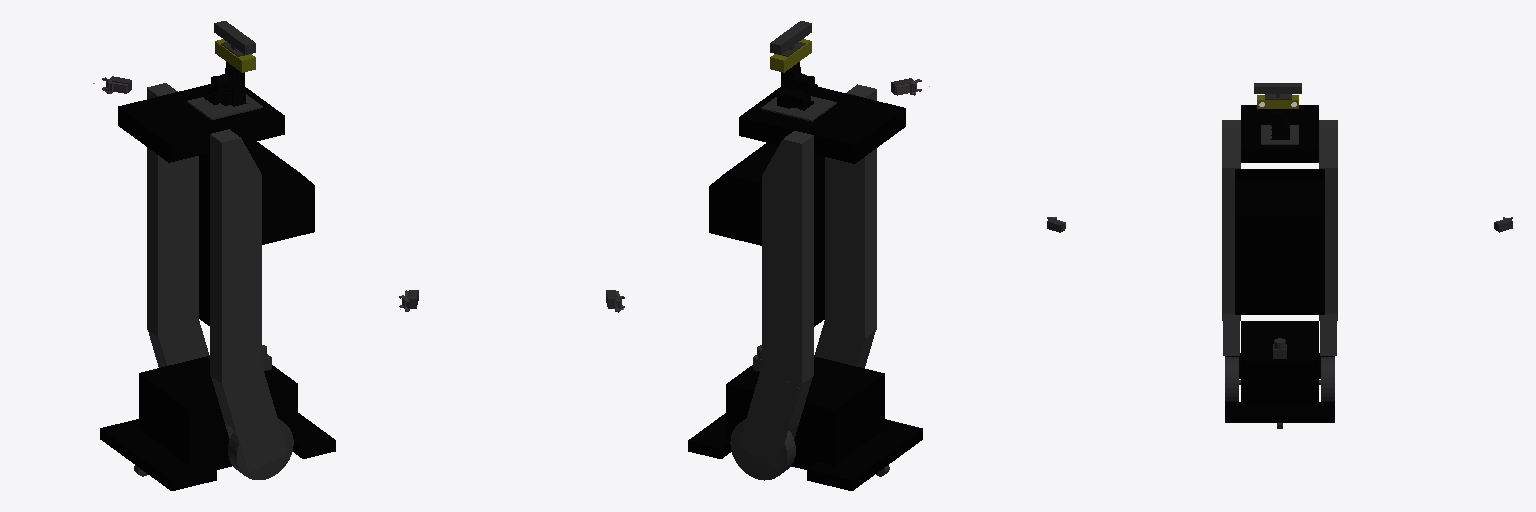
--- Render facts (derived) ---
Views: 3 orthographic renders of the robot side by side, from view 1: azimuth 30°, elevation 25°; view 2: azimuth 150°, elevation 25°; view 3: azimuth 270°, elevation 25°.
Robot: phoebe — 44 links, 43 joints (16 revolute, 4 continuous, 4 prismatic, 19 fixed); root link base_footprint; default pose: all joints at 0.
Links seen in each view (by area): view 1: base_link, wheel_right, xtion_link, ptu_base_plate_link, bumblebee_link, ptu_tilt_link, ptu_pan_link; view 2: base_link, wheel_left, xtion_link, ptu_base_plate_link, bumblebee_link, ptu_tilt_link, ptu_pan_link; view 3: base_link, xtion_link, wheel_left, wheel_right.
Link boxes in pixels (box(x1,y1,x2,y2)): base_link: box(100, 83, 335, 490); wheel_right: box(228, 419, 293, 479); xtion_link: box(214, 21, 255, 56); ptu_base_plate_link: box(187, 94, 262, 119); bumblebee_link: box(215, 39, 255, 72); ptu_tilt_link: box(208, 65, 244, 94); ptu_pan_link: box(204, 87, 246, 106); base_link: box(688, 84, 922, 490); wheel_left: box(730, 419, 795, 480); xtion_link: box(770, 21, 811, 56); ptu_base_plate_link: box(761, 96, 836, 121); bumblebee_link: box(770, 39, 811, 72); ptu_tilt_link: box(781, 64, 817, 93); ptu_pan_link: box(777, 88, 813, 110); base_link: box(1222, 105, 1337, 422); xtion_link: box(1254, 83, 1301, 99); wheel_left: box(1321, 357, 1334, 401); wheel_right: box(1225, 357, 1238, 401).
Bounding box of the posed robot: 0.546 × 1.77 × 1.33 m (x, y, z).
Meshes: 15 distinct files referenced, 6 mesh visuals loaded (5 Collada DAE); not drawn: 20 (reference not matched to a file when rendering).

robot.urdf — phoebe:
<?xml version="1.0" ?>
<!-- =================================================================================== -->
<!-- |    This document was autogenerated by xacro from [local-path]/catkin_ws/src/robotic_waiter/phoebe_description/urdf/phoebe.urdf.xacro | -->
<!-- |    EDITING THIS FILE BY HAND IS NOT RECOMMENDED                                 | -->
<!-- =================================================================================== -->
<robot name="phoebe" xmlns:xacro="http://www.ros.org/wiki/xacro">
  <gazebo>
    <plugin filename="libgazebo_ros_control.so" name="gazebo_ros_control">
      <!-- <publishTf>1</publishTf> -->
      <robotNamespace>/phoebe</robotNamespace>
      <robotSimType>gazebo_ros_control/DefaultRobotHWSim</robotSimType>
      <legacyModeNS>true</legacyModeNS>
    </plugin>
    <!-- <plugin name="joint_state_publisher" filename="libgazebo_ros_joint_state_publisher.so"> 
      <updateRate>50</updateRate>
    </plugin>     -->
  </gazebo>
  <gazebo>
    <plugin filename="libroboticsgroup_gazebo_mimic_joint_plugin.so" name="right_finger_mimic_joint_plugin">
      <joint>right_arm_gripper_joint</joint>
      <mimicJoint>right_arm_gripper_joint2</mimicJoint>
      <multiplier>-1</multiplier>
      <maxEffort>100.0</maxEffort>
    </plugin>
  </gazebo>
  <gazebo>
    <plugin filename="libroboticsgroup_gazebo_mimic_joint_plugin.so" name="left_finger_mimic_joint_plugin">
      <joint>left_arm_gripper_joint</joint>
      <mimicJoint>left_arm_gripper_joint2</mimicJoint>
      <multiplier>-1</multiplier>
      <maxEffort>100.0</maxEffort>
    </plugin>
  </gazebo>
  <gazebo reference="base_link">
    <kp>1e+13</kp>
    <kd>1</kd>
    <mu1>1.0</mu1>
    <mu2>10.0</mu2>
    <material>Gazebo/Grey</material>
  </gazebo>
  <gazebo reference="wheel_left">
    <mu1 value="220.0"/>
    <mu2 value="100.0"/>
    <kp>1e+13</kp>
    <kd>1</kd>
    <material>Gazebo/White</material>
  </gazebo>
  <gazebo reference="wheel_right">
    <mu1 value="220.0"/>
    <mu2 value="100.0"/>
    <kp>1e+13</kp>
    <kd>1</kd>
    <material>Gazebo/White</material>
  </gazebo>
  <gazebo reference="wheel_rear">
    <mu1 value="220.0"/>
    <mu2 value="100.0"/>
    <kp>1e+13</kp>
    <kd>1</kd>
    <material>Gazebo/White</material>
  </gazebo>
  <gazebo reference="wheel_front">
    <mu1 value="220.0"/>
    <mu2 value="100.0"/>
    <kp>1e+13</kp>
    <kd>1</kd>
    <material>Gazebo/White</material>
  </gazebo>
  <gazebo reference="left_arm_base_link">
    <kp>1e+13</kp>
    <kd>1</kd>
    <mu1>1.0</mu1>
    <mu2>10.0</mu2>
    <material>Gazebo/Black</material>
  </gazebo>
  <gazebo reference="right_arm_base_link">
    <kp>1e+13</kp>
    <kd>1</kd>
    <mu1>1.0</mu1>
    <mu2>10.0</mu2>
    <material>Gazebo/Black</material>
  </gazebo>
  <gazebo>
    <plugin filename="libgazebo_ros_diff_drive.so" name="differential_drive_controller">
      <alwaysOn>true</alwaysOn>
      <updateRate>50</updateRate>
      <leftJoint>wheel_left_joint</leftJoint>
      <rightJoint>wheel_right_joint</rightJoint>
      <wheelSeparation>0.31</wheelSeparation>
      <wheelDiameter>0.19</wheelDiameter>
      <commandTopic>/phoebe/cmd_vel</commandTopic>
      <odometryTopic>odom</odometryTopic>
      <odometryFrame>odom</odometryFrame>
      <robotBaseFrame>base_footprint</robotBaseFrame>
      <legacyMode>false</legacyMode>
      <publishWheelTF>true</publishWheelTF>
      <publishOdomTF>true</publishOdomTF>
      <publishWheelJointState>true</publishWheelJointState>
      <publishTf>1</publishTf>
      <wheelAcceleration>1</wheelAcceleration>
      <wheelTorque>5</wheelTorque>
      <rosDebugLevel>na</rosDebugLevel>
      <odometrySource>0</odometrySource>
    </plugin>
  </gazebo>
  <transmission name="wheel_left_joint_trans">
    <type>transmission_interface/SimpleTransmission</type>
    <joint name="wheel_left_joint">
      <hardwareInterface>hardware_interface/VelocityJointInterface</hardwareInterface>
    </joint>
    <actuator name="wheel_left_joint_motor">
      <hardwareInterface>hardware_interface/VelocityJointInterface</hardwareInterface>
      <mechanicalReduction>1.0</mechanicalReduction>
    </actuator>
  </transmission>
  <transmission name="wheel_right_joint_trans">
    <type>transmission_interface/SimpleTransmission</type>
    <joint name="wheel_right_joint">
      <hardwareInterface>hardware_interface/VelocityJointInterface</hardwareInterface>
    </joint>
    <actuator name="wheel_right_joint_motor">
      <hardwareInterface>hardware_interface/VelocityJointInterface</hardwareInterface>
      <mechanicalReduction>1.0</mechanicalReduction>
    </actuator>
  </transmission>
  <transmission name="ptu_pan_joint_trans">
    <type>transmission_interface/SimpleTransmission</type>
    <joint name="ptu_pan_joint">
      <hardwareInterface>hardware_interface/PositionJointInterface</hardwareInterface>
    </joint>
    <actuator name="ptu_pan_joint_motor">
      <hardwareInterface>hardware_interface/PositionJointInterface</hardwareInterface>
    </actuator>
    <actuator name="ptu_pan_joint_motor">
      <mechanicalReduction>1.0</mechanicalReduction>
    </actuator>
  </transmission>
  <transmission name="ptu_tilt_joint_trans">
    <type>transmission_interface/SimpleTransmission</type>
    <joint name="ptu_tilt_joint">
      <hardwareInterface>hardware_interface/PositionJointInterface</hardwareInterface>
    </joint>
    <actuator name="ptu_tilt_joint_motor">
      <hardwareInterface>hardware_interface/PositionJointInterface</hardwareInterface>
      <mechanicalReduction>1.0</mechanicalReduction>
    </actuator>
  </transmission>
  <!-- hokuyo Laser-->
  <gazebo reference="hokuyo_link">
    <material>Gazebo/Black</material>
    <sensor name="head_hokuyo_sensor" type="ray">
      <pose>0 0 0 0 0 0</pose>
      <visualize>false</visualize>
      <update_rate>20</update_rate>
      <ray>
        <scan>
          <horizontal>
            <samples>720</samples>
            <resolution>1</resolution>
            <min_angle>-1.570796</min_angle>
            <max_angle>1.570796</max_angle>
          </horizontal>
        </scan>
        <range>
          <min>0.10</min>
          <max>30.0</max>
          <resolution>0.01</resolution>
        </range>
        <noise>
          <type>gaussian</type>
          <!-- Noise parameters based on published spec for Hokuyo laser
               achieving "+-30mm" accuracy at range < 10m.  A mean of 0.0m and
               stddev of 0.01m will put 99.7% of samples within 0.03m of the true
               reading. -->
          <mean>0.0</mean>
          <stddev>0.01</stddev>
        </noise>
      </ray>
      <plugin filename="libgazebo_ros_laser.so" name="gazebo_ros_head_hokuyo_controller">
        <topicName>/phoebe/laser/scan</topicName>
        <frameName>hokuyo_link</frameName>
      </plugin>
    </sensor>
  </gazebo>
  <!-- Gazebo  Cameras -->
  <gazebo reference="bumblebee_link">
    <sensor name="gazebo_stereo_camera" type="multicamera">
      <update_rate>25.0</update_rate>
      <camera name="left">
        <!-- <pose>0 0.065 0 0 0 0</pose> -->
        <horizontal_fov>1.69297</horizontal_fov>
        <image>
          <width>640 </width>
          <height> 480</height>
          <format>B8G8R8</format>
        </image>
        <clip>
          <near>0.01</near>
          <far>100</far>
        </clip>
      </camera>
      <camera name="right">
        <!-- <pose>0 -0.065 0 0 0 0</pose> -->
        <!-- the pose is wrt /stereo_link which is the parent of stereo_optical_frame -->
        <horizontal_fov>1.69297</horizontal_fov>
        <image>
          <width>640 </width>
          <height> 480</height>
          <format>B8G8R8</format>
        </image>
        <clip>
          <near>0.01</near>
          <far>10</far>
        </clip>
      </camera>
      <plugin filename="libgazebo_ros_multicamera.so" name="stereo_camera_controller">
        <alwaysOn>true</alwaysOn>
        <updateRate>0.0</updateRate>
        <cameraName>bumblebee</cameraName>
        <imageTopicName>/bumblebee/image</imageTopicName>
        <cameraInfoTopicName>/bumblebee/camera_info</cameraInfoTopicName>
        <frameName>bumblebee_link</frameName>
        <hackBaseline>0.0</hackBaseline>
        <CxPrime>0</CxPrime>
        <Cx>0</Cx>
        <Cy>0</Cy>
        <focalLength>0</focalLength>
        <!-- image_width /283.0 (2*tan(hfov_radian /2)) -->
        <distortionK1>0.0</distortionK1>
        <distortionK2>0.0</distortionK2>
        <distortionK3>0.0</distortionK3>
        <distortionT1>0.0</distortionT1>
        <distortionT2>0.0</distortionT2>
      </plugin>
    </sensor>
  </gazebo>
  <gazebo reference="xtion_link">
    <sensor name="xtion_link_camera" type="depth">
      <update_rate>30</update_rate>
      <camera>
        <horizontal_fov>1.01229096</horizontal_fov>
        <!-- in radians -->
        <image>
          <width>640</width>
          <height>480</height>
          <format>R8G8B8</format>
        </image>
        <clip>
          <near>0.08</near>
          <far>3.5</far>
        </clip>
      </camera>
      <plugin filename="libgazebo_ros_openni_kinect.so" name="xtion_link_controller">
        <baseline>0.2</baseline>
        <alwaysOn>true</alwaysOn>
        <updateRate>0</updateRate>
        <cameraName>xtion</cameraName>
        <imageTopicName>/xtion/color/image_raw</imageTopicName>
        <cameraInfoTopicName>/xtion/color/camera_info</cameraInfoTopicName>
        <depthImageTopicName>/xtion/depth/image_raw</depthImageTopicName>
        <depthImageInfoTopicName>/xtion/depth/camera_info</depthImageInfoTopicName>
        <pointCloudTopicName>/xtion/depth/points</pointCloudTopicName>
        <frameName>xtion_optical_frame</frameName>
        <pointCloudCutoff>0.5</pointCloudCutoff>
        <pointCloudCutoffMax>3.0</pointCloudCutoffMax>
        <distortionK1>0.00000001</distortionK1>
        <distortionK2>0.00000001</distortionK2>
        <distortionK3>0.00000001</distortionK3>
        <distortionT1>0.00000001</distortionT1>
        <distortionT2>0.00000001</distortionT2>
        <CxPrime>0</CxPrime>
        <Cx>0</Cx>
        <Cy>0</Cy>
        <focalLength>577.2</focalLength>
        <hackBaseline>0</hackBaseline>
      </plugin>
    </sensor>
  </gazebo>
  <gazebo reference="left_optical_frame">
    <sensor name="left_arm_camera" type="camera">
      <update_rate>30.0</update_rate>
      <!-- <visualize>true</visualize> -->
      <!-- <pose> 0 0 0 0 -1.5708 0 </pose > -->
      <camera name="left_arm_camera">
        <!-- <pose> 0 0 0 0 -1.5708 0 </pose > -->
        <horizontal_fov>1.3962634</horizontal_fov>
        <image>
          <width>800</width>
          <height>800</height>
          <format>R8G8B8</format>
        </image>
        <clip>
          <near>0.02</near>
          <far>300</far>
        </clip>
        <noise>
          <type>gaussian</type>
          <!-- Noise is sampled independently per pixel on each frame.  
               That pixel's noise value is added to each of its color
               channels, which at that point lie in the range [0,1]. -->
          <mean>0.0</mean>
          <stddev>0.007</stddev>
        </noise>
      </camera>
      <plugin filename="libgazebo_ros_camera.so" name="camera_controller">
        <alwaysOn>true</alwaysOn>
        <updateRate>0.0</updateRate>
        <cameraName>left_arm_camera</cameraName>
        <imageTopicName>/left_arm_camera/image_raw</imageTopicName>
        <cameraInfoTopicName>/left_arm_camera/camera_info</cameraInfoTopicName>
        <frameName>left_optical_frame</frameName>
        <hackBaseline>0.07</hackBaseline>
        <distortionK1>0.0</distortionK1>
        <distortionK2>0.0</distortionK2>
        <distortionK3>0.0</distortionK3>
        <distortionT1>0.0</distortionT1>
        <distortionT2>0.0</distortionT2>
      </plugin>
    </sensor>
  </gazebo>
  <gazebo reference="right_optical_frame">
    <sensor name="right_arm_camera" type="camera">
      <update_rate>30.0</update_rate>
      <!-- <visualize>true</visualize> -->
      <!-- <pose> 0 0 0  0 -1.5708 3.1415 </pose > -->
      <camera name="right_arm_camera">
        <!-- <pose> 0 0 0  0 -1.5708 3.1415 </pose > -->
        <horizontal_fov>1.3962634</horizontal_fov>
        <image>
          <width>800</width>
          <height>800</height>
          <format>R8G8B8</format>
        </image>
        <clip>
          <near>0.02</near>
          <far>300</far>
        </clip>
        <noise>
          <type>gaussian</type>
          <!-- Noise is sampled independently per pixel on each frame.  
               That pixel's noise value is added to each of its color
               channels, which at that point lie in the range [0,1]. -->
          <mean>0.0</mean>
          <stddev>0.007</stddev>
        </noise>
      </camera>
      <plugin filename="libgazebo_ros_camera.so" name="camera_controller">
        <alwaysOn>true</alwaysOn>
        <updateRate>0.0</updateRate>
        <cameraName>right_arm_camera</cameraName>
        <imageTopicName>/right_arm_camera/image_raw</imageTopicName>
        <cameraInfoTopicName>/right_arm_camera/camera_info</cameraInfoTopicName>
        <frameName>right_optical_frame</frameName>
        <hackBaseline>0.07</hackBaseline>
        <distortionK1>0.0</distortionK1>
        <distortionK2>0.0</distortionK2>
        <distortionK3>0.0</distortionK3>
        <distortionT1>0.0</distortionT1>
        <distortionT2>0.0</distortionT2>
      </plugin>
    </sensor>
  </gazebo>
  <link name="base_footprint"/>
  <joint name="base_joint" type="fixed">
    <origin rpy="0 0 0" xyz="0 0 0.0012"/>
    <parent link="base_footprint"/>
    <child link="base_link"/>
  </joint>
  <link name="base_link">
    <inertial>
      <origin rpy="0 0 0" xyz="-0.040872 0.0 0.56"/>
      <mass value="12"/>
      <!-- inretia tensor for solid cuboid: m=12, h=1.12, d=0.49, w=0.41 -->
      <inertia ixx="1.4225" ixy="0" ixz="0" iyy="1.4945" iyz="0" izz="0.4082"/>
    </inertial>
    <visual>
      <origin rpy="0 0 0" xyz="0 0 0"/>
      <geometry>
        <mesh filename="package://phoebe_description/meshes/phoebe.dae"/>
      </geometry>
    </visual>
    <collision>
      <origin rpy="0 0 0" xyz="0 0 0"/>
      <geometry>
        <mesh filename="package://phoebe_description/meshes/phoebe.dae"/>
      </geometry>
    </collision>
  </link>
  <joint name="wheel_rear_joint" type="continuous">
    <origin rpy="0 0 0" xyz="-0.29 0.0 0.020"/>
    <parent link="base_link"/>
    <child link="wheel_rear"/>
    <axis rpy="0 0 0" xyz="0 1 0"/>
    <limit effort="10000" velocity="1000"/>
    <joint_properties damping="0.0" friction="0.0"/>
  </joint>
  <link name="wheel_rear">
    <inertial>
      <!--origin rpy="0 0 0" xyz="0 0 0"/-->
      <origin rpy="0 1.5708 1.5708" xyz="0 0 0"/>
      <mass value="0.25"/>
      <!-- inretia tensor for solid cylinder: m=0.5, h=0.05, r=0.095 -->
      <inertia ixx="1.232291667e-03" ixy="0" ixz="0" iyy="1.232291667e-03" iyz="0" izz="2.25625e-03"/>
    </inertial>
    <visual>
      <origin rpy="0 1.5707 1.5707" xyz="0 0 0"/>
      <geometry>
        <cylinder length="0.025" radius="0.02"/>
      </geometry>
      <material name="blackish">
        <color rgba="0.2 0.2 0.2 1"/>
      </material>
    </visual>
    <collision>
      <origin rpy="0 1.5707 1.5707" xyz="0 0 0"/>
      <geometry>
        <cylinder length="0.025" radius="0.02"/>
      </geometry>
    </collision>
  </link>
  <joint name="wheel_front_joint" type="continuous">
    <parent link="base_link"/>
    <child link="wheel_front"/>
    <origin rpy="0 0 0" xyz="0.206 0 0.020"/>
    <axis rpy="0 0 0" xyz="0 1 0"/>
    <limit effort="10000" velocity="1000"/>
    <joint_properties damping="0.0" friction="0.0"/>
  </joint>
  <link name="wheel_front">
    <inertial>
      <!--origin rpy="0 0 0" xyz="0 0 0"/-->
      <origin rpy="0 1.5708 1.5708" xyz="0 0 0"/>
      <mass value="0.25"/>
      <inertia ixx="1.232291667e-03" ixy="0" ixz="0" iyy="1.232291667e-03" iyz="0" izz="2.25625e-03"/>
    </inertial>
    <visual>
      <origin rpy="0 1.5707 1.5707" xyz="0 0 0"/>
      <geometry>
        <cylinder length="0.025" radius="0.02"/>
      </geometry>
      <material name="blackish"/>
    </visual>
    <collision>
      <origin rpy="0 1.5707 1.5707" xyz="0 0 0"/>
      <geometry>
        <cylinder length="0.025" radius="0.02"/>
      </geometry>
    </collision>
  </link>
  <joint name="wheel_left_joint" type="continuous">
    <parent link="base_link"/>
    <child link="wheel_left"/>
    <!--origin rpy="1.570796 0 0" xyz="0.0 0.18 0.095"/-->
    <origin rpy="0 0 0" xyz="0.0 0.18 0.095"/>
    <!--axis xyz="0 0 1"/-->
    <axis xyz="0 1 0"/>
    <limit effort="10000" velocity="1000"/>
    <joint_properties damping="1.0" friction="1.0"/>
  </joint>
  <link name="wheel_left">
    <inertial>
      <!--origin rpy="0 0 0" xyz="0 0 0"/-->
      <origin rpy="0 1.5708 1.5708" xyz="0 0 0"/>
      <mass value="0.5"/>
      <!-- inretia tensor for solid cylinder: m=0.5, h=0.05, r=0.095 -->
      <inertia ixx="1.232291667e-03" ixy="0" ixz="0" iyy="1.232291667e-03" iyz="0" izz="2.25625e-03"/>
    </inertial>
    <visual>
      <!--origin rpy="0 0 0" xyz="0 0 0"/-->
      <origin rpy="0 1.5708 1.5708" xyz="0 0 0"/>
      <geometry>
        <cylinder length="0.05" radius="0.095"/>
      </geometry>
      <material name="blackish">
        <color rgba="0.2 0.2 0.2 1"/>
      </material>
    </visual>
    <collision>
      <!--origin rpy="0 0 0" xyz="0 0 0"/-->
      <origin rpy="0 1.5707 1.5707" xyz="0 0 0"/>
      <geometry>
        <cylinder length="0.05" radius="0.095"/>
      </geometry>
    </collision>
  </link>
  <joint name="wheel_right_joint" type="continuous">
    <parent link="base_link"/>
    <child link="wheel_right"/>
    <!--origin rpy="1.570796 0 0" xyz="0.0 -0.18 0.095"/-->
    <origin rpy="0 0 0" xyz="0.0 -0.18 0.095"/>
    <!--axis xyz="0 0 1"/-->
    <axis xyz="0 1 0"/>
    <limit effort="10000" velocity="1000"/>
    <joint_properties damping="1.0" friction="1.0"/>
  </joint>
  <link name="wheel_right">
    <inertial>
      <!--origin rpy="0 0 0" xyz="0 0 0"/-->
      <origin rpy="0 1.5708 1.5708" xyz="0 0 0"/>
      <mass value="0.5"/>
      <!-- inretia tensor for solid cylinder: m=0.5, h=0.05, r=0.095 -->
      <inertia ixx="1.232291667e-03" ixy="0" ixz="0" iyy="1.232291667e-03" iyz="0" izz="2.25625e-03"/>
    </inertial>
    <visual>
      <!--origin rpy="0 0 0" xyz="0 0 0"/-->
      <origin rpy="0 1.5708 1.5708" xyz="0 0 0"/>
      <geometry>
        <cylinder length="0.05" radius="0.095"/>
      </geometry>
      <material name="blackish"/>
    </visual>
    <collision>
      <!--origin rpy="0 0 0" xyz="0 0 0"/-->
      <origin rpy="0 1.5708 1.5708" xyz="0 0 0"/>
      <geometry>
        <cylinder length="0.05" radius="0.095"/>
      </geometry>
    </collision>
  </link>
  <!-- Cyton Gamma 1500 models -->
  <!-- Right arm -->
  <joint name="right_arm_joint" type="fixed">
    <parent link="base_link"/>
    <child link="right_arm_base_link"/>
    <origin rpy="1.5708 -1.5708 0" xyz="0.067 -0.162 0.8"/>
  </joint>
  <link name="right_arm_base_link">
    <visual>
      <origin rpy="0 0 0" xyz="0 0 0"/>
      <geometry>
        <mesh filename="package://cyton_gamma_1500_description/meshes/base.dae"/>
      </geometry>
    </visual>
    <inertial>
      <origin rpy="0 0 0" xyz="0.0 0 0"/>
      <mass value="0.478571"/>
      <!-- inretia tensor for solid cuboid: m=0.478571, w=0.177, h=0.074, d=0.150 -->
      <inertia ixx="1.47e-03" ixy="0" ixz="0" iyy="2.15e-03" iyz="0" izz="1.12e-03"/>
    </inertial>
    <collision>
      <!--origin xyz="0 0.0115 0.047"/-->
      <origin rpy="0 0 0" xyz="0 0 0"/>
      <geometry>
        <!--box size="0.154 0.177 0.094"/-->
        <box size="0.154 0.16 0.075"/>
      </geometry>
    </collision>
  </link>
  <joint name="right_arm_shoulder_roll_joint" type="revolute">
    <parent link="right_arm_base_link"/>
    <child link="right_arm_shoulder_roll"/>
    <origin rpy="0 0 0" xyz="0 0 0.05315"/>
    <limit effort="100.0" lower="-2.618" upper="2.618" velocity="1.0"/>
    <axis xyz="0 0 1"/>
  </joint>
  <link name="right_arm_shoulder_roll">
    <visual>
      <origin rpy="1.5708 0 0.384" xyz="0 0 0"/>
      <geometry>
        <mesh filename="package://cyton_gamma_1500_description/meshes/shoulder_roll.dae"/>
      </geometry>
    </visual>
    <collision>
      <origin xyz="0.0 0.0 0.0"/>
      <geometry>
        <!--box size="0.09829 0.18143 0.08392"/-->
        <box size="0.068 0.10 0.065"/>
      </geometry>
    </collision>
    <inertial>
      <origin rpy="0 0 0" xyz="0 0 0.12"/>
      <mass value="0.468571"/>
      <!-- inretia tensor for solid cylinder: m=0.468571, h=0.09248, r=0.044737 -->
      <inertia ixx="4.7e-04" ixy="0" ixz="0" iyy="5.7e-04" iyz="0" izz="5.7e-04"/>
    </inertial>
  </link>
  <joint name="right_arm_shoulder_pitch_joint" type="revolute">
    <parent link="right_arm_shoulder_roll"/>
    <child link="right_arm_shoulder_pitch"/>
    <origin rpy="0 0 0" xyz="0.0205 0 0.12435"/>
    <limit effort="100.0" lower="-1.8326" upper="1.8326" velocity="1.0"/>
    <axis xyz="1 0 0"/>
  </joint>
  <transmission name="right_arm_tran1">
    <type>transmission_interface/SimpleTransmission</type>
    <joint name="right_arm_shoulder_roll_joint">
      <hardwareInterface>hardware_interface/PositionJointInterface</hardwareInterface>
    </joint>
    <actuator name="right_arm_motor1">
      <hardwareInterface>hardware_interface/PositionJointInterface</hardwareInterface>
    </actuator>
  </transmission>
  <link name="right_arm_shoulder_pitch">
    <visual>
      <origin rpy="1.5708 0 0" xyz="0 0 0"/>
      <geometry>
        <mesh filename="package://cyton_gamma_1500_description/meshes/shoulder_pitch.dae"/>
      </geometry>
    </visual>
    <collision>
      <origin xyz="-0.02 0.0 0.0"/>
      <geometry>
        <sphere radius="0.055"/>
        <!--box size="0.098 0.08 0.11"/-->
      </geometry>
    </collision>
    <inertial>
      <!--origin rpy="0 0 0" xyz="-0.0214 0 0.117"/-->
      <origin rpy="0 0 0" xyz="0 0 0"/>
      <mass value="0.4285714"/>
      <!-- inretia tensor for solid cylinder: m=0.4285714, h=0.09248, r=0.04204 -->
      <inertia ixx="4.9e-04" ixy="0" ixz="0" iyy="3.8e-04" iyz="0" izz="4.9e-04"/>
    </inertial>
  </link>
  <joint name="right_arm_shoulder_yaw_joint" type="revolute">
    <parent link="right_arm_shoulder_pitch"/>
    <child link="right_arm_shoulder_yaw"/>
    <origin rpy="0 0 0" xyz="-0.0215 -0.0205 0.1255"/>
    <limit effort="100.0" lower="-1.8326" upper="1.8326" velocity="1.0"/>
    <axis xyz="0 -1 0"/>
  </joint>
  <transmission name="right_arm_tran2">
    <type>transmission_interface/SimpleTransmission</type>
    <joint name="right_arm_shoulder_pitch_joint">
      <hardwareInterface>hardware_interface/PositionJointInterface</hardwareInterface>
    </joint>
    <actuator name="right_arm_motor2">
      <hardwareInterface>hardware_interface/PositionJointInterface</hardwareInterface>
    </actuator>
  </transmission>
  <link name="right_arm_shoulder_yaw">
    <visual>
      <origin rpy="1.5708 0 -1.5708" xyz="0 0 0.0"/>
      <geometry>
        <mesh filename="package://cyton_gamma_1500_description/meshes/shoulder_yaw.dae"/>
      </geometry>
    </visual>
    <collision>
      <origin xyz=" -0.002 0.02 -0.01"/>
      <geometry>
        <sphere radius="0.055"/>
        <!--box size="0.08 0.1 0.11"/-->
      </geometry>
    </collision>
    <inertial>
      <!--origin rpy="0 0 0" xyz="-0.002 0.021 0.1135"/-->
      <origin rpy="0 0 0" xyz="0 0 0"/>
      <mass value="0.408571"/>
      <!-- inretia tensor for solid cylinder: m=0.408571, h=0.084081, r=0.036785 -->
      <inertia ixx="2.8e-04" ixy="0" ixz="0" iyy="3.8e-04" iyz="0" izz="3.8e-04"/>
    </inertial>
  </link>
  <transmission name="right_arm_tran3">
    <type>transmission_interface/SimpleTransmission</type>
    <joint name="right_arm_shoulder_yaw_joint">
      <hardwareInterface>hardware_interface/PositionJointInterface</hardwareInterface>
    </joint>
    <actuator name="right_arm_motor3">
      <hardwareInterface>hardware_interface/PositionJointInterface</hardwareInterface>
    </actuator>
  </transmission>
  <joint name="right_arm_elbow_pitch_joint" type="revolute">
    <parent link="right_arm_shoulder_yaw"/>
    <child link="right_arm_elbow_pitch"/>
    <origin rpy="0 0 0" xyz="0.018 0.0206 0.1158"/>
    <limit effort="100.0" lower="-1.8326" upper="1.8326" velocity="1.0"/>
    <axis xyz="1 0 0"/>
  </joint>
  <link name="right_arm_elbow_pitch">
    <visual>
      <origin rpy="1.5708 0 3.1416" xyz="0 0 0"/>
      <geometry>
        <mesh filename="package://cyton_gamma_1500_description/meshes/elbow_pitch.dae"/>
      </geometry>
    </visual>
    <collision>
      <origin xyz="-0.022 0.0 -0.006"/>
      <geometry>
        <sphere radius="0.055"/>
        <!--box size="0.09 0.1 0.11"/-->
      </geometry>
    </collision>
    <inertial>
      <origin rpy="0 0 0" xyz="0 0 0"/>
      <!--origin rpy="0 0 0" xyz="-0.0176 0.001 0.095"/-->
      <mass value="0.388671"/>
      <!-- inretia tensor for solid cylinder: m=0.388671, h=0.06705, r=0.028975 -->
      <inertia ixx="2.3e-04" ixy="0" ixz="0" iyy="1.6e-04" iyz="0" izz="2.3e-04"/>
    </inertial>
  </link>
  <transmission name="right_arm_tran4">
    <type>transmission_interface/SimpleTransmission</type>
    <joint name="right_arm_elbow_pitch_joint">
      <hardwareInterface>hardware_interface/PositionJointInterface</hardwareInterface>
    </joint>
    <actuator name="right_arm_motor4">
      <hardwareInterface>hardware_interface/PositionJointInterface</hardwareInterface>
    </actuator>
  </transmission>
  <joint name="right_arm_elbow_yaw_joint" type="revolute">
    <parent link="right_arm_elbow_pitch"/>
    <child link="right_arm_elbow_yaw"/>
    <origin rpy="0 0 0" xyz="-0.0171 -0.018 0.09746"/>
    <limit effort="100.0" lower="-1.8326" upper="1.8326" velocity="1.0"/>
    <axis xyz="0 -1 0"/>
  </joint>
  <link name="right_arm_elbow_yaw">
    <visual>
      <origin rpy="1.5708 0 1.5708" xyz="0 0 0"/>
      <geometry>
        <mesh filename="package://cyton_gamma_1500_description/meshes/elbow_yaw.dae"/>
      </geometry>
    </visual>
    <collision>
      <origin xyz="0.0 0.025 0.0"/>
      <geometry>
        <sphere radius="0.05"/>
      </geometry>
    </collision>
    <inertial>
      <!--origin rpy="0 0 0" xyz="0 0.018 0.073"/-->
      <origin rpy="0 0 0" xyz="0 0 0"/>
      <mass value="0.368871"/>
      <!-- inretia tensor for solid cylinder: m=0.368871, h=0.043602, r=0.024071 -->
      <inertia ixx="1.0686e-04" ixy="0" ixz="0" iyy="1.1187e-04" iyz="0" izz="1.1187e-04"/>
    </inertial>
  </link>
  <transmission name="right_arm_tran5">
    <type>transmission_interface/SimpleTransmission</type>
    <joint name="right_arm_elbow_yaw_joint">
      <hardwareInterface>hardware_interface/PositionJointInterface</hardwareInterface>
    </joint>
    <actuator name="right_arm_motor5">
      <hardwareInterface>hardware_interface/PositionJointInterface</hardwareInterface>
    </actuator>
  </transmission>
  <joint name="right_arm_wrist_pitch_joint" type="revolute">
    <parent link="right_arm_elbow_yaw"/>
    <child link="right_arm_wrist_pitch"/>
    <origin rpy="0 0 0" xyz="0.02626 0.018 0.0718"/>
    <limit effort="100.0" lower="-1.8326" upper="1.8326" velocity="1.0"/>
    <axis xyz="-1 0 0"/>
  </joint>
  <link name="right_arm_wrist_pitch">
    <visual>
      <origin rpy="1.5708 0 1.5708" xyz="0 0 0"/>
      <geometry>
        <mesh filename="package://cyton_gamma_1500_description/meshes/wrist_pitch.dae"/>
      </geometry>
    </visual>
    <collision>
      <origin xyz="-0.02 0.0 0.0"/>
      <geometry>
        <box size="0.07 0.06 0.11"/>
      </geometry>
    </collision>
    <inertial>
      <!--origin rpy="0 0 0" xyz="-0.027 -0.0005 0.028"/-->
      <origin rpy="0 0 0" xyz="0 0 0"/>
      <!-- <mass value="0.008"/> -->
      <mass value="0.2"/>
      <!-- inretia tensor for solid cuboid: m=0.008, h=0.045602, w=0.0218, d=0.005 -->
      <!-- <inertia ixx="3.3349e-07" ixy="0" ixz="0" iyy="1.403e-06" iyz="0" izz="1.70319e-06"/> -->
      <inertia ixx="8.337e-06" ixy="0" ixz="0" iyy="3.507e-05" iyz="0" izz="4.258e-05"/>
    </inertial>
  </link>
  <transmission name="right_arm_tran6">
    <type>transmission_interface/SimpleTransmission</type>
    <joint name="right_arm_wrist_pitch_joint">
      <hardwareInterface>hardware_interface/PositionJointInterface</hardwareInterface>
    </joint>
    <actuator name="right_arm_motor6">
      <hardwareInterface>hardware_interface/PositionJointInterface</hardwareInterface>
    </actuator>
  </transmission>
  <joint name="right_arm_wrist_roll_joint" type="revolute">
    <parent link="right_arm_wrist_pitch"/>
    <child link="right_arm_wrist_roll"/>
    <origin rpy="0 0 0" xyz="-0.026255 0 0.051425"/>
    <limit effort="100.0" lower="-2.61799" upper="2.61799" velocity="1.0"/>
    <axis xyz="0 0 1"/>
  </joint>
  <link name="right_arm_wrist_roll">
    <visual>
      <origin rpy="3.1416 0 -1.5708" xyz="0 0 0"/>
      <geometry>
        <mesh filename="package://cyton_gamma_1500_description/meshes/wrist_roll.dae"/>
      </geometry>
    </visual>
    <collision>
      <origin xyz="0.0 0.008 0.04"/>
      <geometry>
        <box size="0.08 0.06 0.08"/>
      </geometry>
    </collision>
    <inertial>
      <!--origin rpy="0 0 0" xyz="0 0 0.029"/-->
      <origin rpy="0 0 0" xyz="0 0 0"/>
      <mass value="0.38"/>
      <!-- inretia tensor for solid cylinder: m=0.38, h=0.095, r=0.027975 -->
      <inertia ixx="3.6e-04" ixy="0" ixz="0" iyy="3.6e-04" iyz="0" izz="1.487e-04"/>
    </inertial>
  </link>
  <transmission name="right_arm_tran7">
    <type>transmission_interface/SimpleTransmission</type>
    <joint name="right_arm_wrist_roll_joint">
      <hardwareInterface>hardware_interface/PositionJointInterface</hardwareInterface>
    </joint>
    <actuator name="right_arm_motor7">
      <hardwareInterface>hardware_interface/PositionJointInterface</hardwareInterface>
    </actuator>
  </transmission>
  <joint name="right_arm_gripper_joint" type="prismatic">
    <parent link="right_arm_wrist_roll"/>
    <child link="right_arm_gripper_finger1"/>
    <origin rpy="0 0 0" xyz="-0.01331 0.00485 0.077225"/>
    <limit effort="100.0" lower="-0.008" upper="0.008" velocity="1.0"/>
    <axis xyz="1 0 0"/>
  </joint>
  <link name="right_arm_gripper_finger1">
    <visual>
      <origin rpy="0 0 0" xyz="0 0 0"/>
      <geometry>
        <mesh filename="package://cyton_gamma_1500_description/meshes/gripper_finger1.dae"/>
      </geometry>
    </visual>
    <collision>
      <!--origin xyz="-0.0167 0.0172 0.7254"/-->
      <origin xyz="0.0 0.007 0.02"/>
      <geometry>
        <!-- <box size="0.015 0.0229 0.0475"/> -->
        <box size="0.010 0.02 0.031"/>
      </geometry>
    </collision>
    <inertial>
      <!--origin rpy="0 0 0" xyz="0.0034 0.0096 0.017"/-->
      <origin rpy="0 0 0" xyz="0 0 0"/>
      <mass value="0.035"/>
      <!-- inretia tensor for solid cuboid: m=0.035, h=0.0323, w=0.01469, d=0.0224 -->
      <inertia ixx="4.5064e-06" ixy="0" ixz="0" iyy="3.6723e-06" iyz="0" izz="2.0929e-06"/>
    </inertial>
  </link>
  <transmission name="right_arm_tran8">
    <type>transmission_interface/SimpleTransmission</type>
    <joint name="right_arm_gripper_joint">
      <hardwareInterface>hardware_interface/PositionJointInterface</hardwareInterface>
    </joint>
    <actuator name="right_arm_motor8">
      <hardwareInterface>hardware_interface/PositionJointInterface</hardwareInterface>
    </actuator>
  </transmission>
  <joint name="right_arm_gripper_joint2" type="prismatic">
    <parent link="right_arm_wrist_roll"/>
    <child link="right_arm_gripper_finger2"/>
    <origin rpy="0 0 0" xyz="0.0098 0.00485 0.077225"/>
    <limit effort="100.0" lower="-0.008" upper="0.008" velocity="1.0"/>
    <mimic joint="right_arm_gripper_joint" multiplier="-1"/>
    <axis xyz="1 0 0"/>
  </joint>
  <link name="right_arm_gripper_finger2">
    <visual>
      <origin rpy="0 0 0" xyz="0 0 0"/>
      <geometry>
        <mesh filename="package://cyton_gamma_1500_description/meshes/gripper_finger2.dae"/>
      </geometry>
    </visual>
    <collision>
      <!--origin xyz="0.0132 0.0172 0.7254"/-->
      <origin xyz="0.0 0.007 0.02"/>
      <geometry>
        <!-- <box size="0.015 0.0229 0.0475"/> -->
        <box size="0.010 0.020 0.031"/>
      </geometry>
    </collision>
    <inertial>
      <!--origin rpy="0 0 0" xyz="0.0034 0.0096 0.017"/-->
      <origin rpy="0 0 0" xyz="0 0 0"/>
      <mass value="0.035"/>
      <!-- inretia tensor for solid cuboid: m=0.035, h=0.0323, w=0.01469, d=0.0224 -->
      <inertia ixx="4.5064e-06" ixy="0" ixz="0" iyy="3.6723e-06" iyz="0" izz="2.0929e-06"/>
    </inertial>
  </link>
  <!--
	<transmission name="${prefix}tran9">
		<type>transmission_interface/SimpleTransmission</type>
		<joint name="${prefix}gripper_joint2">
			<hardwareInterface>hardware_interface/PositionJointInterface</hardwareInterface>
		</joint>
		<actuator name="${prefix}motor9">
			<hardwareInterface>hardware_interface/PositionJointInterface</hardwareInterface>
		</actuator>
	</transmission>
      -->
  <!-- virtual end-effector -->
  <joint name="right_arm_virtual_endeffector_joint" type="fixed">
    <parent link="right_arm_wrist_roll"/>
    <child link="right_arm_virtual_endeffector"/>
    <origin rpy="0 0 0" xyz="-0.002316 0.0079 0.079425"/>
  </joint>
  <link name="right_arm_virtual_endeffector">
    <visual>
      <origin rpy="0 0 0" xyz="0 0 0"/>
      <geometry>
        <sphere radius="0.002"/>
      </geometry>
      <material name="grey">
        <color rgba="0.7 0.7 0.7 0.8"/>
      </material>
    </visual>
    <inertial>
      <origin rpy="0 0 0" xyz="0 0 0"/>
      <mass value="0.0016"/>
      <!-- inretia tensor for solid sphere: m=0.0016, r=0.0022 -->
      <inertia ixx="3.0976e-09" ixy="0" ixz="0" iyy="3.0976e-09" iyz="0" izz="3.0976e-09"/>
    </inertial>
  </link>
  <joint name="right_arm_camera_bracket_joint" type="fixed">
    <parent link="right_arm_wrist_roll"/>
    <child link="right_arm_camera_bracket"/>
    <origin rpy="0 0 0" xyz="-0.0008 -0.028 0.0435"/>
  </joint>
  <link name="right_arm_camera_bracket">
    <visual>
      <origin rpy="0 0 0" xyz="0 0 0"/>
      <geometry>
        <mesh filename="package://cyton_gamma_1500_minicam_description/meshes/cam_bracket.dae"/>
      </geometry>
    </visual>
    <collision>
      <origin xyz="0.0 0.0 0.0"/>
      <geometry>
        <box size="0.03512 0.04821 0.07179"/>
      </geometry>
    </collision>
    <inertial>
      <origin rpy="0.95 0 0" xyz="0 -0.01 -0.012"/>
      <mass value="0.052"/>
      <!-- inretia tensor for solid cuboid: m=0.052, h=0.071, w=0.028, d=0.0086 -->
      <inertia ixx="2.2165e-05" ixy="0" ixz="0" iyy="3.7178e-06" iyz="0" izz="2.5242e-05"/>
    </inertial>
  </link>
  <joint name="right_arm_camera_joint" type="fixed">
    <parent link="right_arm_camera_bracket"/>
    <child link="right_arm_camera"/>
    <origin rpy="-0.625 0 0" xyz="0.0 -0.028 -0.005"/>
  </joint>
  <link name="right_arm_camera">
    <visual>
      <origin rpy="0 0 0" xyz="0 0 0"/>
      <geometry>
        <box size="0.031 0.028 0.063"/>
      </geometry>
      <material name="blackish">
        <color rgba="0.2 0.2 0.2 1"/>
      </material>
    </visual>
    <collision>
      <origin rpy="0 0 0" xyz="0 0 0"/>
      <geometry>
        <box size="0.036 0.045 0.063"/>
      </geometry>
    </collision>
    <inertial>
      <origin rpy="0 0 0" xyz="0 0 0"/>
      <mass value="0.085"/>
      <!-- inretia tensor for solid cuboid: m=0.085, h=0.065, w=0.024, d=0.024 -->
      <inertia ixx="3.4007e-05" ixy="0" ixz="0" iyy="3.4007e-05" iyz="0" izz="8.16e-06"/>
    </inertial>
  </link>
  <!-- Left arm -->
  <joint name="left_arm_joint" type="fixed">
    <parent link="base_link"/>
    <child link="left_arm_base_link"/>
    <origin rpy="-1.5708 1.5708 0" xyz="0.067 0.162 0.8"/>
  </joint>
  <link name="left_arm_base_link">
    <visual>
      <origin rpy="0 0 0" xyz="0 0 0"/>
      <geometry>
        <mesh filename="package://cyton_gamma_1500_description/meshes/base.dae"/>
      </geometry>
    </visual>
    <inertial>
      <origin rpy="0 0 0" xyz="0.0 0 0"/>
      <mass value="0.478571"/>
      <!-- inretia tensor for solid cuboid: m=0.478571, w=0.177, h=0.074, d=0.150 -->
      <inertia ixx="1.47e-03" ixy="0" ixz="0" iyy="2.15e-03" iyz="0" izz="1.12e-03"/>
    </inertial>
    <collision>
      <!--origin xyz="0 0.0115 0.047"/-->
      <origin rpy="0 0 0" xyz="0 0 0"/>
      <geometry>
        <!--box size="0.154 0.177 0.094"/-->
        <box size="0.154 0.16 0.075"/>
      </geometry>
    </collision>
  </link>
  <joint name="left_arm_shoulder_roll_joint" type="revolute">
    <parent link="left_arm_base_link"/>
    <child link="left_arm_shoulder_roll"/>
    <origin rpy="0 0 0" xyz="0 0 0.05315"/>
    <limit effort="100.0" lower="-2.618" upper="2.618" velocity="1.0"/>
    <axis xyz="0 0 1"/>
  </joint>
  <link name="left_arm_shoulder_roll">
    <visual>
      <origin rpy="1.5708 0 0.384" xyz="0 0 0"/>
      <geometry>
        <mesh filename="package://cyton_gamma_1500_description/meshes/shoulder_roll.dae"/>
      </geometry>
    </visual>
    <collision>
      <origin xyz="0.0 0.0 0.0"/>
      <geometry>
        <!--box size="0.09829 0.18143 0.08392"/-->
        <box size="0.068 0.10 0.065"/>
      </geometry>
    </collision>
    <inertial>
      <origin rpy="0 0 0" xyz="0 0 0.12"/>
      <mass value="0.468571"/>
      <!-- inretia tensor for solid cylinder: m=0.468571, h=0.09248, r=0.044737 -->
      <inertia ixx="4.7e-04" ixy="0" ixz="0" iyy="5.7e-04" iyz="0" izz="5.7e-04"/>
    </inertial>
  </link>
  <joint name="left_arm_shoulder_pitch_joint" type="revolute">
    <parent link="left_arm_shoulder_roll"/>
    <child link="left_arm_shoulder_pitch"/>
    <origin rpy="0 0 0" xyz="0.0205 0 0.12435"/>
    <limit effort="100.0" lower="-1.8326" upper="1.8326" velocity="1.0"/>
    <axis xyz="1 0 0"/>
  </joint>
  <transmission name="left_arm_tran1">
    <type>transmission_interface/SimpleTransmission</type>
    <joint name="left_arm_shoulder_roll_joint">
      <hardwareInterface>hardware_interface/PositionJointInterface</hardwareInterface>
    </joint>
    <actuator name="left_arm_motor1">
      <hardwareInterface>hardware_interface/PositionJointInterface</hardwareInterface>
    </actuator>
  </transmission>
  <link name="left_arm_shoulder_pitch">
    <visual>
      <origin rpy="1.5708 0 0" xyz="0 0 0"/>
      <geometry>
        <mesh filename="package://cyton_gamma_1500_description/meshes/shoulder_pitch.dae"/>
      </geometry>
    </visual>
    <collision>
      <origin xyz="-0.02 0.0 0.0"/>
      <geometry>
        <sphere radius="0.055"/>
        <!--box size="0.098 0.08 0.11"/-->
      </geometry>
    </collision>
    <inertial>
      <!--origin rpy="0 0 0" xyz="-0.0214 0 0.117"/-->
      <origin rpy="0 0 0" xyz="0 0 0"/>
      <mass value="0.4285714"/>
      <!-- inretia tensor for solid cylinder: m=0.4285714, h=0.09248, r=0.04204 -->
      <inertia ixx="4.9e-04" ixy="0" ixz="0" iyy="3.8e-04" iyz="0" izz="4.9e-04"/>
    </inertial>
  </link>
  <joint name="left_arm_shoulder_yaw_joint" type="revolute">
    <parent link="left_arm_shoulder_pitch"/>
    <child link="left_arm_shoulder_yaw"/>
    <origin rpy="0 0 0" xyz="-0.0215 -0.0205 0.1255"/>
    <limit effort="100.0" lower="-1.8326" upper="1.8326" velocity="1.0"/>
    <axis xyz="0 -1 0"/>
  </joint>
  <transmission name="left_arm_tran2">
    <type>transmission_interface/SimpleTransmission</type>
    <joint name="left_arm_shoulder_pitch_joint">
      <hardwareInterface>hardware_interface/PositionJointInterface</hardwareInterface>
    </joint>
    <actuator name="left_arm_motor2">
      <hardwareInterface>hardware_interface/PositionJointInterface</hardwareInterface>
    </actuator>
  </transmission>
  <link name="left_arm_shoulder_yaw">
    <visual>
      <origin rpy="1.5708 0 -1.5708" xyz="0 0 0.0"/>
      <geometry>
        <mesh filename="package://cyton_gamma_1500_description/meshes/shoulder_yaw.dae"/>
      </geometry>
    </visual>
    <collision>
      <origin xyz=" -0.002 0.02 -0.01"/>
      <geometry>
        <sphere radius="0.055"/>
        <!--box size="0.08 0.1 0.11"/-->
      </geometry>
    </collision>
    <inertial>
      <!--origin rpy="0 0 0" xyz="-0.002 0.021 0.1135"/-->
      <origin rpy="0 0 0" xyz="0 0 0"/>
      <mass value="0.408571"/>
      <!-- inretia tensor for solid cylinder: m=0.408571, h=0.084081, r=0.036785 -->
      <inertia ixx="2.8e-04" ixy="0" ixz="0" iyy="3.8e-04" iyz="0" izz="3.8e-04"/>
    </inertial>
  </link>
  <transmission name="left_arm_tran3">
    <type>transmission_interface/SimpleTransmission</type>
    <joint name="left_arm_shoulder_yaw_joint">
      <hardwareInterface>hardware_interface/PositionJointInterface</hardwareInterface>
    </joint>
    <actuator name="left_arm_motor3">
      <hardwareInterface>hardware_interface/PositionJointInterface</hardwareInterface>
    </actuator>
  </transmission>
  <joint name="left_arm_elbow_pitch_joint" type="revolute">
    <parent link="left_arm_shoulder_yaw"/>
    <child link="left_arm_elbow_pitch"/>
    <origin rpy="0 0 0" xyz="0.018 0.0206 0.1158"/>
    <limit effort="100.0" lower="-1.8326" upper="1.8326" velocity="1.0"/>
    <axis xyz="1 0 0"/>
  </joint>
  <link name="left_arm_elbow_pitch">
    <visual>
      <origin rpy="1.5708 0 3.1416" xyz="0 0 0"/>
      <geometry>
        <mesh filename="package://cyton_gamma_1500_description/meshes/elbow_pitch.dae"/>
      </geometry>
    </visual>
    <collision>
      <origin xyz="-0.022 0.0 -0.006"/>
      <geometry>
        <sphere radius="0.055"/>
        <!--box size="0.09 0.1 0.11"/-->
      </geometry>
    </collision>
    <inertial>
      <origin rpy="0 0 0" xyz="0 0 0"/>
      <!--origin rpy="0 0 0" xyz="-0.0176 0.001 0.095"/-->
      <mass value="0.388671"/>
      <!-- inretia tensor for solid cylinder: m=0.388671, h=0.06705, r=0.028975 -->
      <inertia ixx="2.3e-04" ixy="0" ixz="0" iyy="1.6e-04" iyz="0" izz="2.3e-04"/>
    </inertial>
  </link>
  <transmission name="left_arm_tran4">
    <type>transmission_interface/SimpleTransmission</type>
    <joint name="left_arm_elbow_pitch_joint">
      <hardwareInterface>hardware_interface/PositionJointInterface</hardwareInterface>
    </joint>
    <actuator name="left_arm_motor4">
      <hardwareInterface>hardware_interface/PositionJointInterface</hardwareInterface>
    </actuator>
  </transmission>
  <joint name="left_arm_elbow_yaw_joint" type="revolute">
    <parent link="left_arm_elbow_pitch"/>
    <child link="left_arm_elbow_yaw"/>
    <origin rpy="0 0 0" xyz="-0.0171 -0.018 0.09746"/>
    <limit effort="100.0" lower="-1.8326" upper="1.8326" velocity="1.0"/>
    <axis xyz="0 -1 0"/>
  </joint>
  <link name="left_arm_elbow_yaw">
    <visual>
      <origin rpy="1.5708 0 1.5708" xyz="0 0 0"/>
      <geometry>
        <mesh filename="package://cyton_gamma_1500_description/meshes/elbow_yaw.dae"/>
      </geometry>
    </visual>
    <collision>
      <origin xyz="0.0 0.025 0.0"/>
      <geometry>
        <sphere radius="0.05"/>
      </geometry>
    </collision>
    <inertial>
      <!--origin rpy="0 0 0" xyz="0 0.018 0.073"/-->
      <origin rpy="0 0 0" xyz="0 0 0"/>
      <mass value="0.368871"/>
      <!-- inretia tensor for solid cylinder: m=0.368871, h=0.043602, r=0.024071 -->
      <inertia ixx="1.0686e-04" ixy="0" ixz="0" iyy="1.1187e-04" iyz="0" izz="1.1187e-04"/>
    </inertial>
  </link>
  <transmission name="left_arm_tran5">
    <type>transmission_interface/SimpleTransmission</type>
    <joint name="left_arm_elbow_yaw_joint">
      <hardwareInterface>hardware_interface/PositionJointInterface</hardwareInterface>
    </joint>
    <actuator name="left_arm_motor5">
      <hardwareInterface>hardware_interface/PositionJointInterface</hardwareInterface>
    </actuator>
  </transmission>
  <joint name="left_arm_wrist_pitch_joint" type="revolute">
    <parent link="left_arm_elbow_yaw"/>
    <child link="left_arm_wrist_pitch"/>
    <origin rpy="0 0 0" xyz="0.02626 0.018 0.0718"/>
    <limit effort="100.0" lower="-1.8326" upper="1.8326" velocity="1.0"/>
    <axis xyz="-1 0 0"/>
  </joint>
  <link name="left_arm_wrist_pitch">
    <visual>
      <origin rpy="1.5708 0 1.5708" xyz="0 0 0"/>
      <geometry>
        <mesh filename="package://cyton_gamma_1500_description/meshes/wrist_pitch.dae"/>
      </geometry>
    </visual>
    <collision>
      <origin xyz="-0.02 0.0 0.0"/>
      <geometry>
        <box size="0.07 0.06 0.11"/>
      </geometry>
    </collision>
    <inertial>
      <!--origin rpy="0 0 0" xyz="-0.027 -0.0005 0.028"/-->
      <origin rpy="0 0 0" xyz="0 0 0"/>
      <!-- <mass value="0.008"/> -->
      <mass value="0.2"/>
      <!-- inretia tensor for solid cuboid: m=0.008, h=0.045602, w=0.0218, d=0.005 -->
      <!-- <inertia ixx="3.3349e-07" ixy="0" ixz="0" iyy="1.403e-06" iyz="0" izz="1.70319e-06"/> -->
      <inertia ixx="8.337e-06" ixy="0" ixz="0" iyy="3.507e-05" iyz="0" izz="4.258e-05"/>
    </inertial>
  </link>
  <transmission name="left_arm_tran6">
    <type>transmission_interface/SimpleTransmission</type>
    <joint name="left_arm_wrist_pitch_joint">
      <hardwareInterface>hardware_interface/PositionJointInterface</hardwareInterface>
    </joint>
    <actuator name="left_arm_motor6">
      <hardwareInterface>hardware_interface/PositionJointInterface</hardwareInterface>
    </actuator>
  </transmission>
  <joint name="left_arm_wrist_roll_joint" type="revolute">
    <parent link="left_arm_wrist_pitch"/>
    <child link="left_arm_wrist_roll"/>
    <origin rpy="0 0 0" xyz="-0.026255 0 0.051425"/>
    <limit effort="100.0" lower="-2.61799" upper="2.61799" velocity="1.0"/>
    <axis xyz="0 0 1"/>
  </joint>
  <link name="left_arm_wrist_roll">
    <visual>
      <origin rpy="3.1416 0 -1.5708" xyz="0 0 0"/>
      <geometry>
        <mesh filename="package://cyton_gamma_1500_description/meshes/wrist_roll.dae"/>
      </geometry>
    </visual>
    <collision>
      <origin xyz="0.0 0.008 0.04"/>
      <geometry>
        <box size="0.08 0.06 0.08"/>
      </geometry>
    </collision>
    <inertial>
      <!--origin rpy="0 0 0" xyz="0 0 0.029"/-->
      <origin rpy="0 0 0" xyz="0 0 0"/>
      <mass value="0.38"/>
      <!-- inretia tensor for solid cylinder: m=0.38, h=0.095, r=0.027975 -->
      <inertia ixx="3.6e-04" ixy="0" ixz="0" iyy="3.6e-04" iyz="0" izz="1.487e-04"/>
    </inertial>
  </link>
  <transmission name="left_arm_tran7">
    <type>transmission_interface/SimpleTransmission</type>
    <joint name="left_arm_wrist_roll_joint">
      <hardwareInterface>hardware_interface/PositionJointInterface</hardwareInterface>
    </joint>
    <actuator name="left_arm_motor7">
      <hardwareInterface>hardware_interface/PositionJointInterface</hardwareInterface>
    </actuator>
  </transmission>
  <joint name="left_arm_gripper_joint" type="prismatic">
    <parent link="left_arm_wrist_roll"/>
    <child link="left_arm_gripper_finger1"/>
    <origin rpy="0 0 0" xyz="-0.01331 0.00485 0.077225"/>
    <limit effort="100.0" lower="-0.008" upper="0.008" velocity="1.0"/>
    <axis xyz="1 0 0"/>
  </joint>
  <link name="left_arm_gripper_finger1">
    <visual>
      <origin rpy="0 0 0" xyz="0 0 0"/>
      <geometry>
        <mesh filename="package://cyton_gamma_1500_description/meshes/gripper_finger1.dae"/>
      </geometry>
    </visual>
    <collision>
      <!--origin xyz="-0.0167 0.0172 0.7254"/-->
      <origin xyz="0.0 0.007 0.02"/>
      <geometry>
        <!-- <box size="0.015 0.0229 0.0475"/> -->
        <box size="0.010 0.02 0.031"/>
      </geometry>
    </collision>
    <inertial>
      <!--origin rpy="0 0 0" xyz="0.0034 0.0096 0.017"/-->
      <origin rpy="0 0 0" xyz="0 0 0"/>
      <mass value="0.035"/>
      <!-- inretia tensor for solid cuboid: m=0.035, h=0.0323, w=0.01469, d=0.0224 -->
      <inertia ixx="4.5064e-06" ixy="0" ixz="0" iyy="3.6723e-06" iyz="0" izz="2.0929e-06"/>
    </inertial>
  </link>
  <transmission name="left_arm_tran8">
    <type>transmission_interface/SimpleTransmission</type>
    <joint name="left_arm_gripper_joint">
      <hardwareInterface>hardware_interface/PositionJointInterface</hardwareInterface>
    </joint>
    <actuator name="left_arm_motor8">
      <hardwareInterface>hardware_interface/PositionJointInterface</hardwareInterface>
    </actuator>
  </transmission>
  <joint name="left_arm_gripper_joint2" type="prismatic">
    <parent link="left_arm_wrist_roll"/>
    <child link="left_arm_gripper_finger2"/>
    <origin rpy="0 0 0" xyz="0.0098 0.00485 0.077225"/>
    <limit effort="100.0" lower="-0.008" upper="0.008" velocity="1.0"/>
    <mimic joint="left_arm_gripper_joint" multiplier="-1"/>
    <axis xyz="1 0 0"/>
  </joint>
  <link name="left_arm_gripper_finger2">
    <visual>
      <origin rpy="0 0 0" xyz="0 0 0"/>
      <geometry>
        <mesh filename="package://cyton_gamma_1500_description/meshes/gripper_finger2.dae"/>
      </geometry>
    </visual>
    <collision>
      <!--origin xyz="0.0132 0.0172 0.7254"/-->
      <origin xyz="0.0 0.007 0.02"/>
      <geometry>
        <!-- <box size="0.015 0.0229 0.0475"/> -->
        <box size="0.010 0.020 0.031"/>
      </geometry>
    </collision>
    <inertial>
      <!--origin rpy="0 0 0" xyz="0.0034 0.0096 0.017"/-->
      <origin rpy="0 0 0" xyz="0 0 0"/>
      <mass value="0.035"/>
      <!-- inretia tensor for solid cuboid: m=0.035, h=0.0323, w=0.01469, d=0.0224 -->
      <inertia ixx="4.5064e-06" ixy="0" ixz="0" iyy="3.6723e-06" iyz="0" izz="2.0929e-06"/>
    </inertial>
  </link>
  <!--
	<transmission name="${prefix}tran9">
		<type>transmission_interface/SimpleTransmission</type>
		<joint name="${prefix}gripper_joint2">
			<hardwareInterface>hardware_interface/PositionJointInterface</hardwareInterface>
		</joint>
		<actuator name="${prefix}motor9">
			<hardwareInterface>hardware_interface/PositionJointInterface</hardwareInterface>
		</actuator>
	</transmission>
      -->
  <!-- virtual end-effector -->
  <joint name="left_arm_virtual_endeffector_joint" type="fixed">
    <parent link="left_arm_wrist_roll"/>
    <child link="left_arm_virtual_endeffector"/>
    <origin rpy="0 0 0" xyz="-0.002316 0.0079 0.079425"/>
  </joint>
  <link name="left_arm_virtual_endeffector">
    <visual>
      <origin rpy="0 0 0" xyz="0 0 0"/>
      <geometry>
        <sphere radius="0.002"/>
      </geometry>
      <material name="grey">
        <color rgba="0.7 0.7 0.7 0.8"/>
      </material>
    </visual>
    <inertial>
      <origin rpy="0 0 0" xyz="0 0 0"/>
      <mass value="0.0016"/>
      <!-- inretia tensor for solid sphere: m=0.0016, r=0.0022 -->
      <inertia ixx="3.0976e-09" ixy="0" ixz="0" iyy="3.0976e-09" iyz="0" izz="3.0976e-09"/>
    </inertial>
  </link>
  <joint name="left_arm_camera_bracket_joint" type="fixed">
    <parent link="left_arm_wrist_roll"/>
    <child link="left_arm_camera_bracket"/>
    <origin rpy="0 0 0" xyz="-0.0008 -0.028 0.0435"/>
  </joint>
  <link name="left_arm_camera_bracket">
    <visual>
      <origin rpy="0 0 0" xyz="0 0 0"/>
      <geometry>
        <mesh filename="package://cyton_gamma_1500_minicam_description/meshes/cam_bracket.dae"/>
      </geometry>
    </visual>
    <collision>
      <origin xyz="0.0 0.0 0.0"/>
      <geometry>
        <box size="0.03512 0.04821 0.07179"/>
      </geometry>
    </collision>
    <inertial>
      <origin rpy="0.95 0 0" xyz="0 -0.01 -0.012"/>
      <mass value="0.052"/>
      <!-- inretia tensor for solid cuboid: m=0.052, h=0.071, w=0.028, d=0.0086 -->
      <inertia ixx="2.2165e-05" ixy="0" ixz="0" iyy="3.7178e-06" iyz="0" izz="2.5242e-05"/>
    </inertial>
  </link>
  <joint name="left_arm_camera_joint" type="fixed">
    <parent link="left_arm_camera_bracket"/>
    <child link="left_arm_camera"/>
    <origin rpy="-0.625 0 0" xyz="0.0 -0.028 -0.005"/>
  </joint>
  <link name="left_arm_camera">
    <visual>
      <origin rpy="0 0 0" xyz="0 0 0"/>
      <geometry>
        <box size="0.031 0.028 0.063"/>
      </geometry>
      <material name="blackish">
        <color rgba="0.2 0.2 0.2 1"/>
      </material>
    </visual>
    <collision>
      <origin rpy="0 0 0" xyz="0 0 0"/>
      <geometry>
        <box size="0.036 0.045 0.063"/>
      </geometry>
    </collision>
    <inertial>
      <origin rpy="0 0 0" xyz="0 0 0"/>
      <mass value="0.085"/>
      <!-- inretia tensor for solid cuboid: m=0.085, h=0.065, w=0.024, d=0.024 -->
      <inertia ixx="3.4007e-05" ixy="0" ixz="0" iyy="3.4007e-05" iyz="0" izz="8.16e-06"/>
    </inertial>
  </link>
  <!-- PTU -->
  <joint name="ptu_joint" type="fixed">
    <parent link="base_link"/>
    <child link="ptu_base_plate_link"/>
    <origin rpy="0 0 0" xyz="0.02 0 1.1075"/>
  </joint>
  <link name="ptu_base_plate_link">
    <inertial>
      <origin rpy="0 0 0" xyz="-0.034 0 0"/>
      <mass value="0.07"/>
      <!-- inretia tensor for solid cuboid: m=0.07, h=0.005, w=0.142, d=0.17 -->
      <inertia ixx="1.1777e-04" ixy="0" ixz="0" iyy="1.6873e-04" iyz="0" izz="2.8621e-04"/>
    </inertial>
    <visual>
      <origin rpy="0 0 0" xyz="-0.035 0 0.0025"/>
      <geometry>
        <box size="0.17 0.142 0.005"/>
      </geometry>
      <material name="black">
        <color rgba="0.2 0.2 0.2 1"/>
      </material>
    </visual>
  </link>
  <joint name="ptu_base_plate_joint" type="fixed">
    <parent link="ptu_base_plate_link"/>
    <child link="ptu_base_link"/>
    <origin rpy="0 0 0" xyz="0.0 0.0 0.0"/>
  </joint>
  <link name="ptu_base_link">
    </link>
  <joint name="ptu_base_joint" type="fixed">
    <parent link="ptu_base_link"/>
    <child link="ptu_pan_link"/>
    <origin rpy="0 0 0" xyz="0.0 0 0.005"/>
  </joint>
  <link name="ptu_pan_link">
    <inertial>
      <origin rpy="0 0 0" xyz="0 0 0.06"/>
      <mass value="0.13"/>
      <!-- inretia tensor for solid cuboid: m=0.13, h=0.07, w=0.046, d=0.105 -->
      <inertia ixx="7.6006e-05" ixy="0" ixz="0" iyy="1.4136e-04" iyz="0" izz="1.7892e-04"/>
    </inertial>
    <visual>
      <origin rpy="0 0 0" xyz="0 0.0 0.025"/>
      <geometry>
        <mesh filename="package://dp_ptu_46_description/meshes/pan.dae"/>
      </geometry>
    </visual>
    <collision>
      <origin xyz="0 0.0115 0.047"/>
      <geometry>
        <box size="0.154 0.177 0.094"/>
      </geometry>
    </collision>
  </link>
  <joint name="ptu_pan_joint" type="revolute">
    <parent link="ptu_base_link"/>
    <child link="ptu_tilt_link"/>
    <origin rpy="0 0 0" xyz="-0.00436 -0.0067 0.03"/>
    <limit effort="100.0" lower="-2.775" upper="2.775" velocity="1.0"/>
    <axis xyz="0 0 1"/>
  </joint>
  <link name="ptu_tilt_link">
    <inertial>
      <origin rpy="0 0 0" xyz="-0.03 0 0.05"/>
      <mass value="0.13"/>
      <!-- inretia tensor for solid cuboid: m=0.13, h=0.07, w=0.046, d=0.105 -->
      <inertia ixx="7.6006e-05" ixy="0" ixz="0" iyy="1.7252e-04" iyz="0" izz="1.4136e-04"/>
    </inertial>
    <visual>
      <origin rpy="0 0 0" xyz="0.00436 0.0067 0.0"/>
      <geometry>
        <mesh filename="package://dp_ptu_46_description/meshes/tilt.dae"/>
      </geometry>
    </visual>
    <collision>
      <origin xyz="0 0.0115 0.047"/>
      <geometry>
        <box size="0.154 0.177 0.094"/>
      </geometry>
    </collision>
  </link>
  <joint name="ptu_tilt_joint" type="revolute">
    <parent link="ptu_tilt_link"/>
    <child link="ptu_mount_link"/>
    <origin rpy="0 0 0" xyz="0.0 0 0.0659"/>
    <limit effort="100.0" lower="-1.396" upper="0.541" velocity="1.0"/>
    <axis xyz="0 -1 0"/>
  </joint>
  <link name="ptu_mount_link">
    <visual>
      <origin rpy="0 0 0" xyz="0.00436 0.0067 -0.0659"/>
      <geometry>
        <mesh filename="package://dp_ptu_46_description/meshes/mount.dae"/>
      </geometry>
    </visual>
    <collision>
      <origin xyz="0 0.0115 0.047"/>
      <geometry>
        <box size="0.154 0.177 0.094"/>
      </geometry>
    </collision>
  </link>
  <!-- Hokuyo lidar -->
  <joint name="hokuyo_base_joint" type="fixed">
    <parent link="base_link"/>
    <child link="hokuyo_link"/>
    <origin rpy="0 0 0" xyz="0.1 0 0.3"/>
  </joint>
  <link name="hokuyo_link">
    <inertial>
      <origin rpy="0 0 0" xyz="0 0 -0.02"/>
      <mass value="0.13"/>
      <!-- inretia tensor for solid cuboid: m=0.13, h=0.07, w=0.05, d=0.05 -->
      <inertia ixx="8.0167e-05" ixy="0" ixz="0" iyy="8.0167e-05" iyz="0" izz="5.4167e-05"/>
    </inertial>
    <visual>
      <origin rpy="0 0 0" xyz="0 0 0"/>
      <geometry>
        <cylinder length="0.0265" radius="0.021"/>
      </geometry>
      <material name="blackish"/>
    </visual>
    <visual>
      <origin rpy="0 0 0" xyz="0 0 -0.034"/>
      <geometry>
        <box size="0.05 0.05 0.041"/>
      </geometry>
      <material name="blackish"/>
    </visual>
    <collision>
      <origin rpy="0 0 0" xyz="0 0 0"/>
      <geometry>
        <cylinder length="0.0265" radius="0.021"/>
      </geometry>
    </collision>
    <collision>
      <origin rpy="0 0 0" xyz="0 0 -0.047"/>
      <geometry>
        <box size="0.05 0.05 0.041"/>
      </geometry>
    </collision>
  </link>
  <!-- Bumblebee 2 -->
  <joint name="bumblebee_joint" type="fixed">
    <parent link="ptu_mount_link"/>
    <child link="bumblebee_link"/>
    <origin rpy="0 0 0" xyz="0 0 0.058"/>
  </joint>
  <link name="bumblebee_link">
    <inertial>
      <origin rpy="0 0 0" xyz="0 0 0"/>
      <mass value="0.342"/>
      <!-- inretia tensor for solid cuboid: m=0.342, h=0.036, w=0.157, d=0.0474 -->
      <inertia ixx="7.3943e-04" ixy="0" ixz="0" iyy="1.0096e-04" iyz="0" izz="7.6653e-04"/>
    </inertial>
    <visual>
      <origin rpy="0 0 0" xyz="0 0 0"/>
      <geometry>
        <box size="0.047 0.157 0.038"/>
      </geometry>
      <material name="golden">
        <color rgba="0.4 0.4 0.1 1"/>
      </material>
    </visual>
  </link>
  <joint name="bumblebee_cameras_joint" type="fixed">
    <parent link="bumblebee_link"/>
    <child link="bumblebee_cameras_link"/>
    <origin rpy="0 0 0" xyz="0 0 0.0"/>
  </joint>
  <link name="bumblebee_cameras_link">
    <visual>
      <origin rpy="0 1.5708 0" xyz="0.024 0.06 0"/>
      <geometry>
        <cylinder length="0.001" radius="0.011"/>
      </geometry>
      <material name="glass">
        <color rgba="1 1 1 0.2"/>
      </material>
    </visual>
    <visual>
      <origin rpy="0 1.5708 0" xyz="0.024 -0.06 0"/>
      <geometry>
        <cylinder length="0.001" radius="0.011"/>
      </geometry>
      <material name="glass"/>
    </visual>
  </link>
  <!-- Asus Xtion Pro Live -->
  <joint name="xtion_joint" type="fixed">
    <parent link="bumblebee_link"/>
    <child link="xtion_link"/>
    <origin rpy="0 0 0" xyz="0 0 0.055"/>
  </joint>
  <link name="xtion_link">
    <inertial>
      <origin rpy="0 0 0" xyz="0 0 0"/>
      <mass value="0.54"/>
      <!-- inretia tensor for solid cuboid: m=0.54, h=0.034, w=0.18, d=0.034 -->
      <inertia ixx="1.51e-03" ixy="0" ixz="0" iyy="1.0404e-04" iyz="0" izz="1.51e-03"/>
    </inertial>
    <visual>
      <origin rpy="0 0 0" xyz="0 0 0"/>
      <geometry>
        <box size="0.036 0.178 0.03"/>
      </geometry>
      <material name="blackish"/>
    </visual>
    <visual>
      <origin rpy="0 0 0" xyz="0 0 -0.025"/>
      <geometry>
        <box size="0.02 0.017 0.02"/>
      </geometry>
      <material name="blackish"/>
    </visual>
    <visual>
      <origin rpy="0 0 0" xyz="0 0 -0.035"/>
      <geometry>
        <box size="0.04 0.1 0.004"/>
      </geometry>
      <material name="blackish"/>
    </visual>
  </link>
  <joint name="xtion_optical_frame_joint" type="fixed">
    <parent link="xtion_link"/>
    <child link="xtion_optical_frame"/>
    <origin rpy="-1.57 0 -1.57" xyz="0 0 0"/>
  </joint>
  <link name="xtion_optical_frame">
 </link>
  <joint name="left_optical_frame_joint" type="fixed">
    <parent link="left_arm_camera"/>
    <child link="left_optical_frame"/>
    <origin rpy="0 -1.5708  0" xyz="0 0 0"/>
  </joint>
  <link name="left_optical_frame">
 </link>
  <joint name="right_optical_frame_joint" type="fixed">
    <parent link="right_arm_camera"/>
    <child link="right_optical_frame"/>
    <origin rpy="0  -1.5708 3.14" xyz="0 0 0"/>
  </joint>
  <link name="right_optical_frame">
 </link>
</robot>
